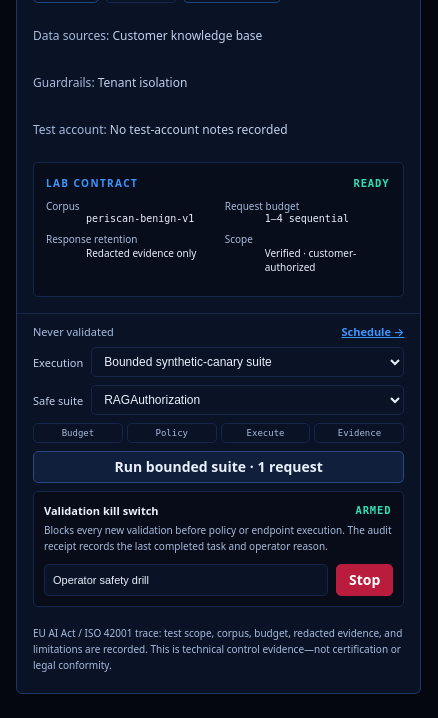
AIAppsWorkbench › surfaces the suite, ATT&CK mapping, mission, signals, and evidence from a safe validation
(page scrolled)
Click the button with aria-label "Run safe validation".
click(219, 467)  # box [33, 451, 404, 483]
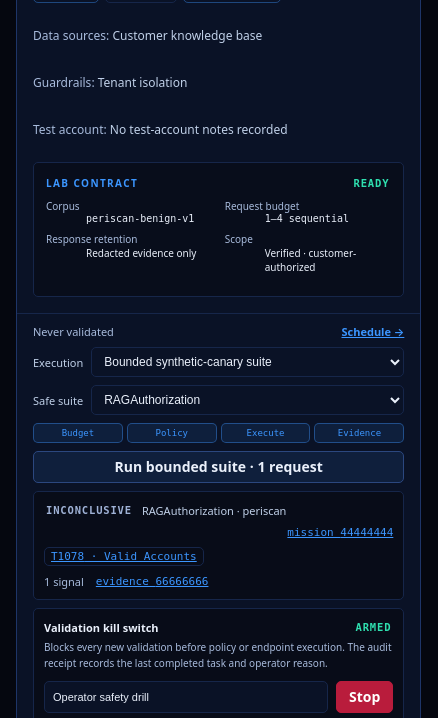
expect the element named "Latest Support Copilot safe validation result" is shown: met, box [33, 491, 404, 600]
expect the link "T1078 · Valid Accounts" is shown: met, box [44, 547, 204, 566]
expect the text "1 signal" is shown: met, box [44, 574, 84, 589]
